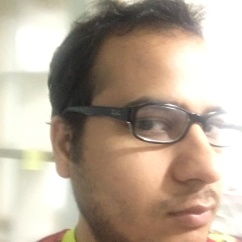glasses: (60, 105, 242, 148)
